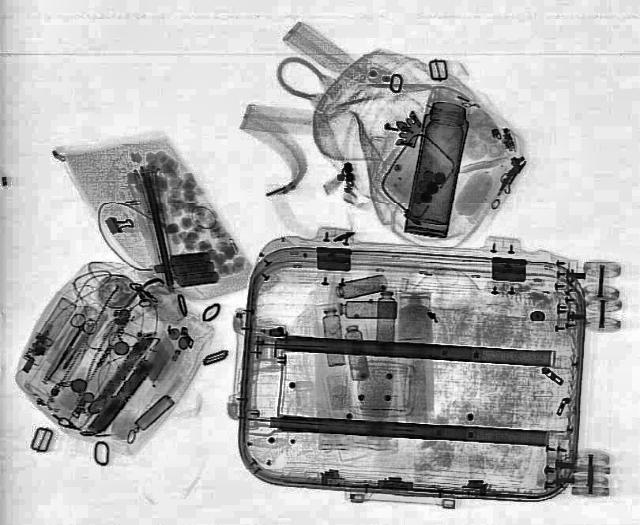Scissors: (36, 310, 100, 384)
